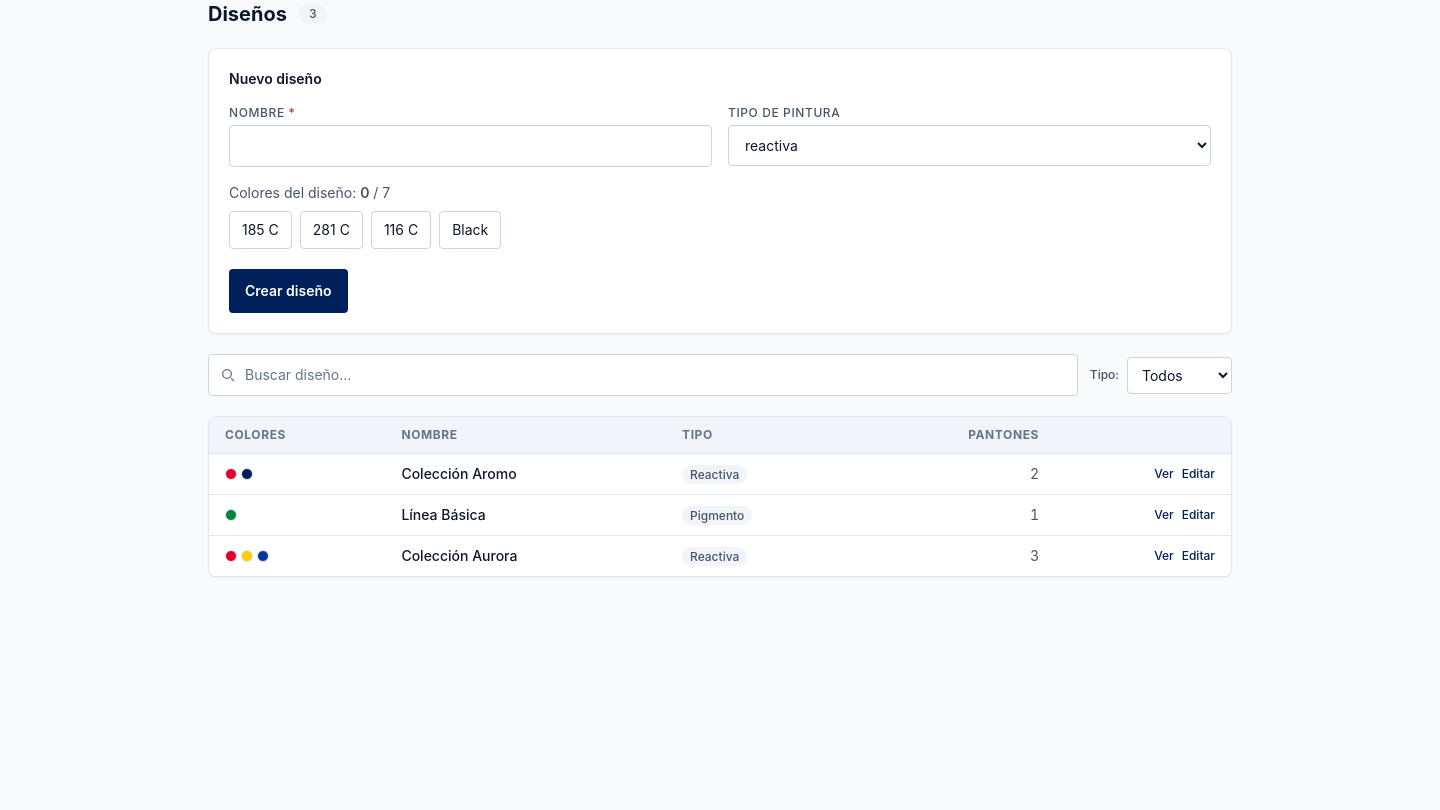
Test: DesignsPage › creates the design only after confirming in the dialog
Type "Colección Nueva" into the field labelled "Nombre *" at (470, 146), box [229,125,712,167]
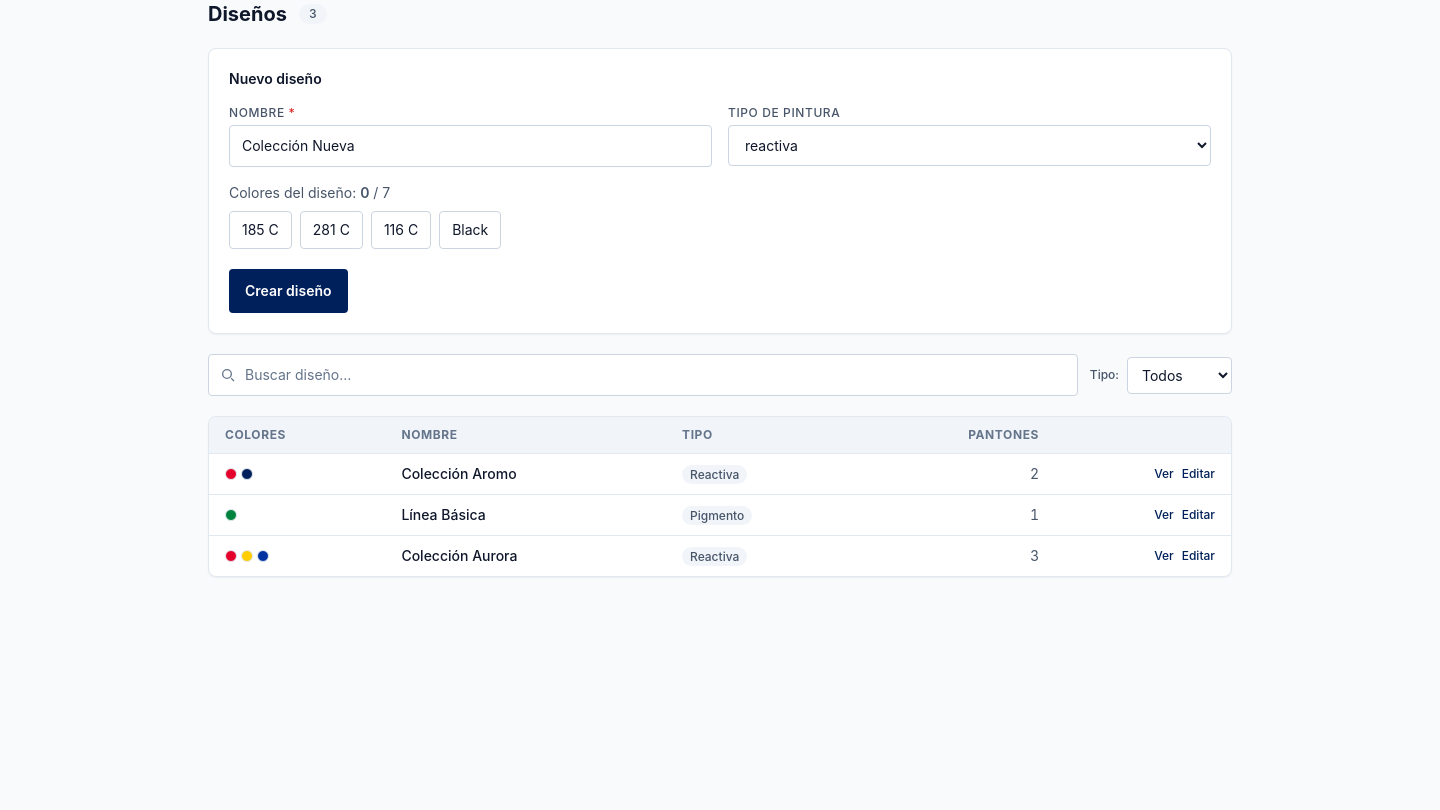
Click the button "Crear diseño" at (288, 291), box [229,269,348,313]
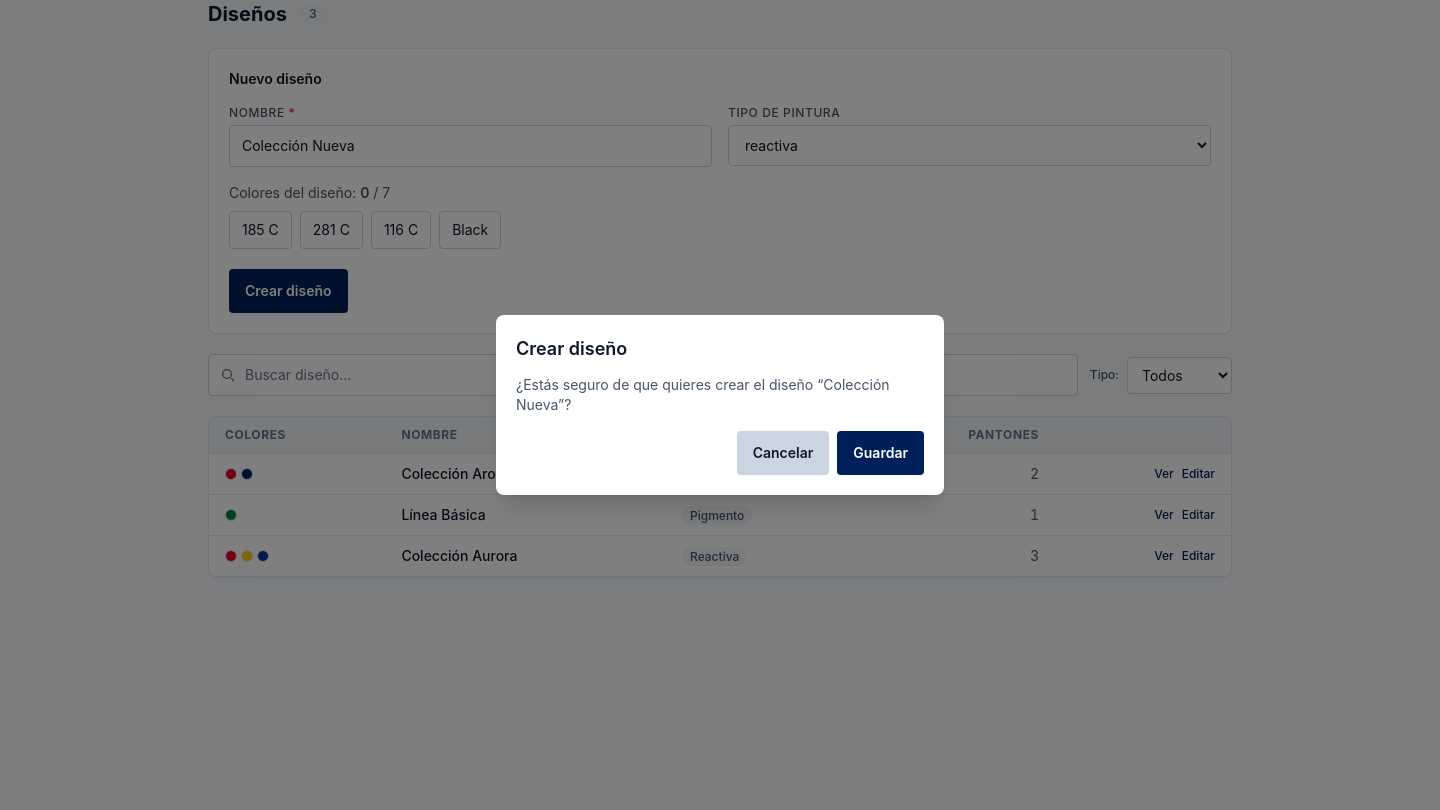
Click the button "Guardar" at (881, 453), box [837,431,924,475]
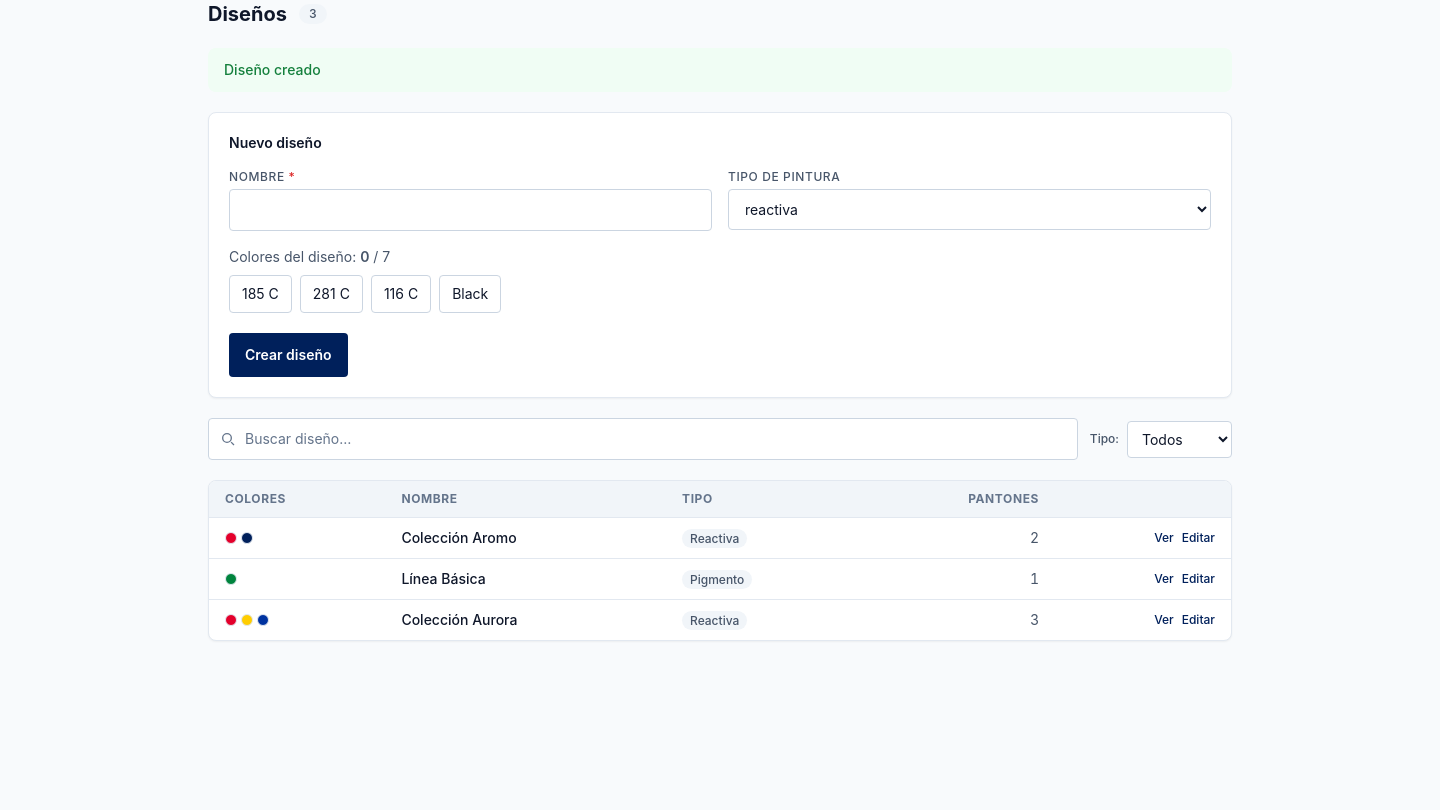
Now the text "Diseño creado" is shown, box [208,48,1232,92]
